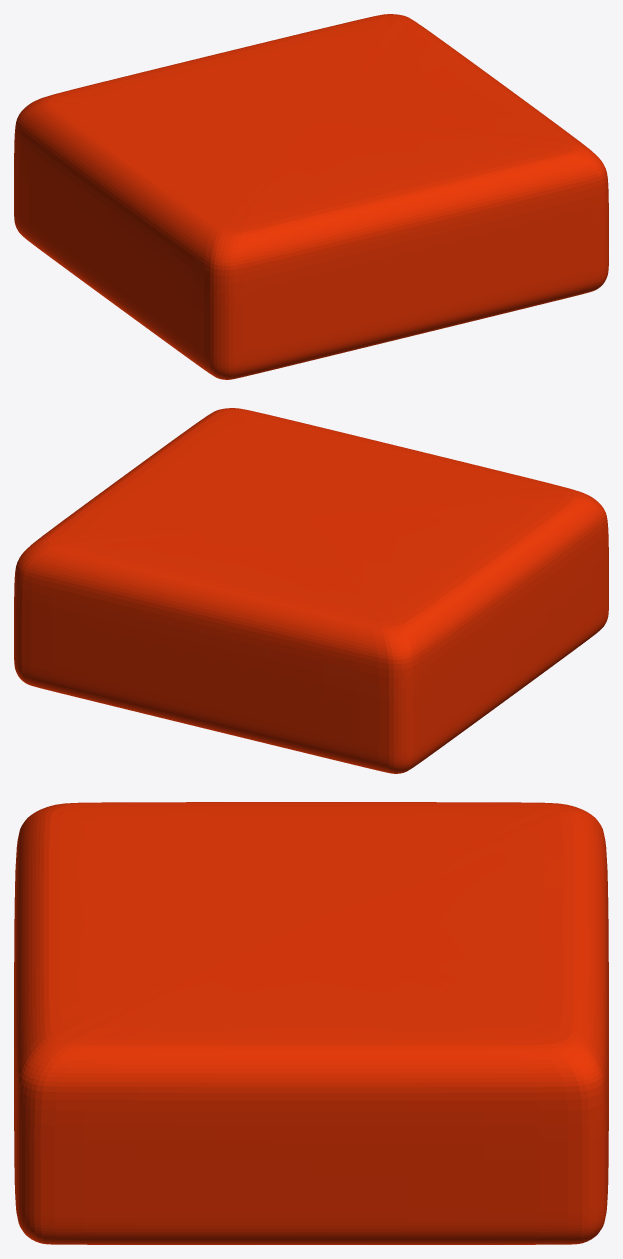
File: p red  round 1.fbx
The picture shows the model from 3 angles, top to bottom: view 1: azimuth 30°, elevation 25°; view 2: azimuth 150°, elevation 25°; view 3: azimuth 270°, elevation 25°; orthographic projection. The views are drawn at different scales.
Parts seen in each view (by area): view 1: Cube.002; view 2: Cube.002; view 3: Cube.002.
Boxes of the visible parts, <box> form: Cube.002: <box>14,14,608,379</box>; Cube.002: <box>14,408,608,773</box>; Cube.002: <box>14,802,608,1244</box>.
Bounding box in the file's own units: 589 × 200 × 544.
